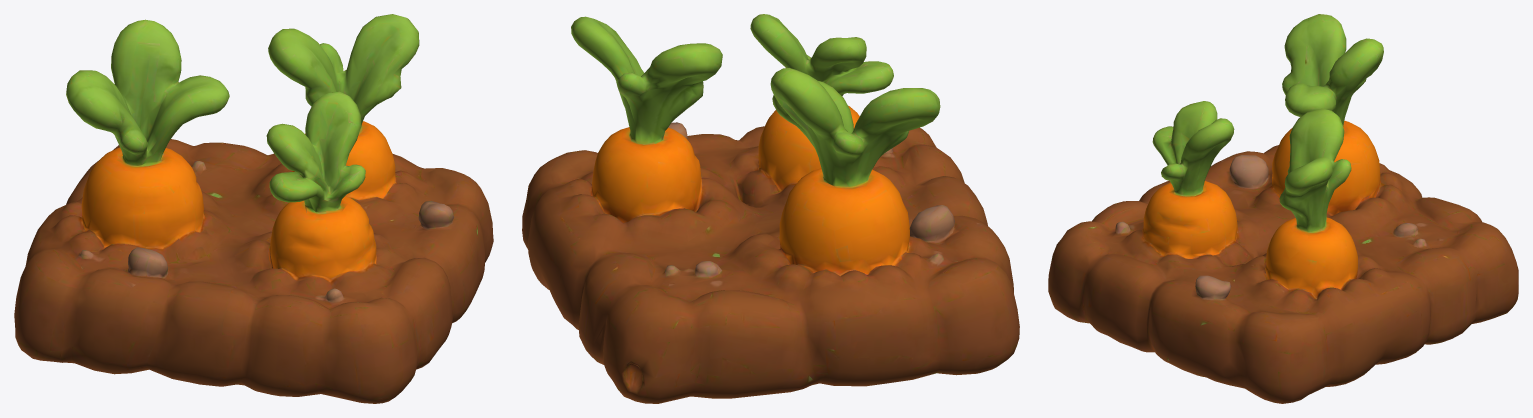
3 renders of one model, left to right at view 1: azimuth 30°, elevation 25°; view 2: azimuth 150°, elevation 25°; view 3: azimuth 270°, elevation 25°, orthographic. The views are drawn at different scales.
Visible parts, largest first — view 1: carrots-growing; view 2: carrots-growing; view 3: carrots-growing.
Boxes of the visible parts, x1,y1,x2,y2 form: carrots-growing: (14,14,493,403); carrots-growing: (522,14,1019,403); carrots-growing: (1048,14,1518,403).
Bounding box in the file's own units: 0.7999 × 0.4527 × 0.7964.
1 material, 1 textured.
